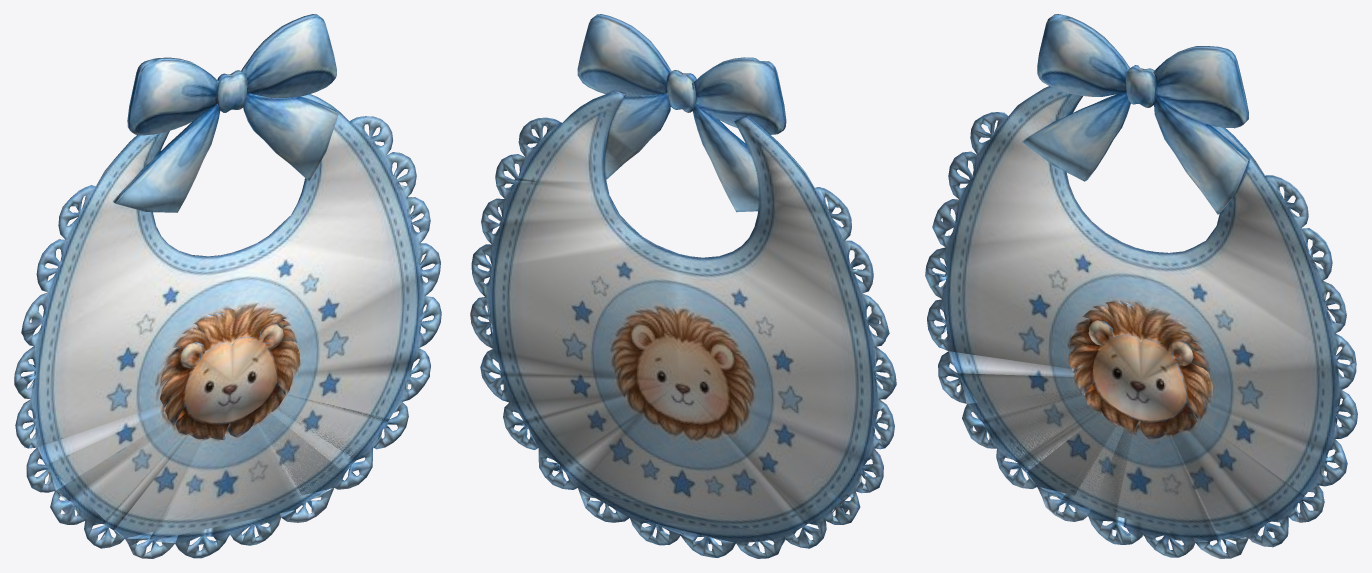
3 renders of one model, left to right at view 1: azimuth 30°, elevation 25°; view 2: azimuth 150°, elevation 25°; view 3: azimuth 330°, elevation 25°, orthographic.
Bounding box in the file's own units: 0.8247 × 0.9517 × 0.0137.
Materials: 1 (1 with a texture image).
